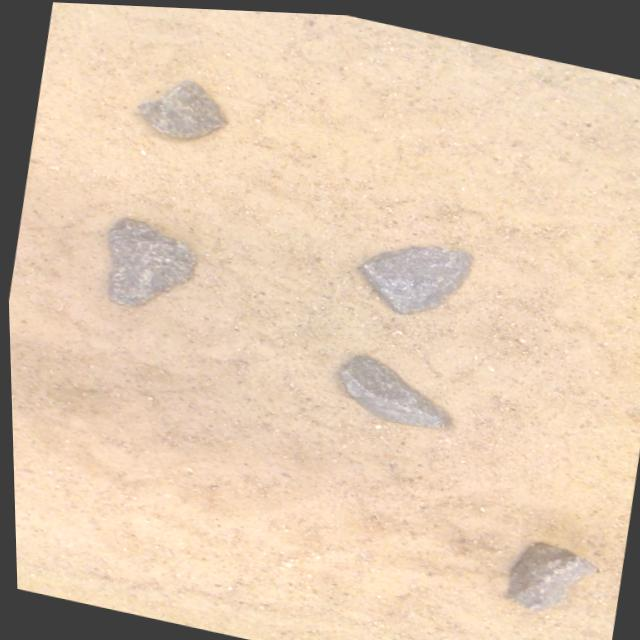rock: (337, 353, 448, 423), (106, 217, 193, 305), (357, 243, 470, 310), (505, 537, 595, 606), (137, 79, 225, 137)
